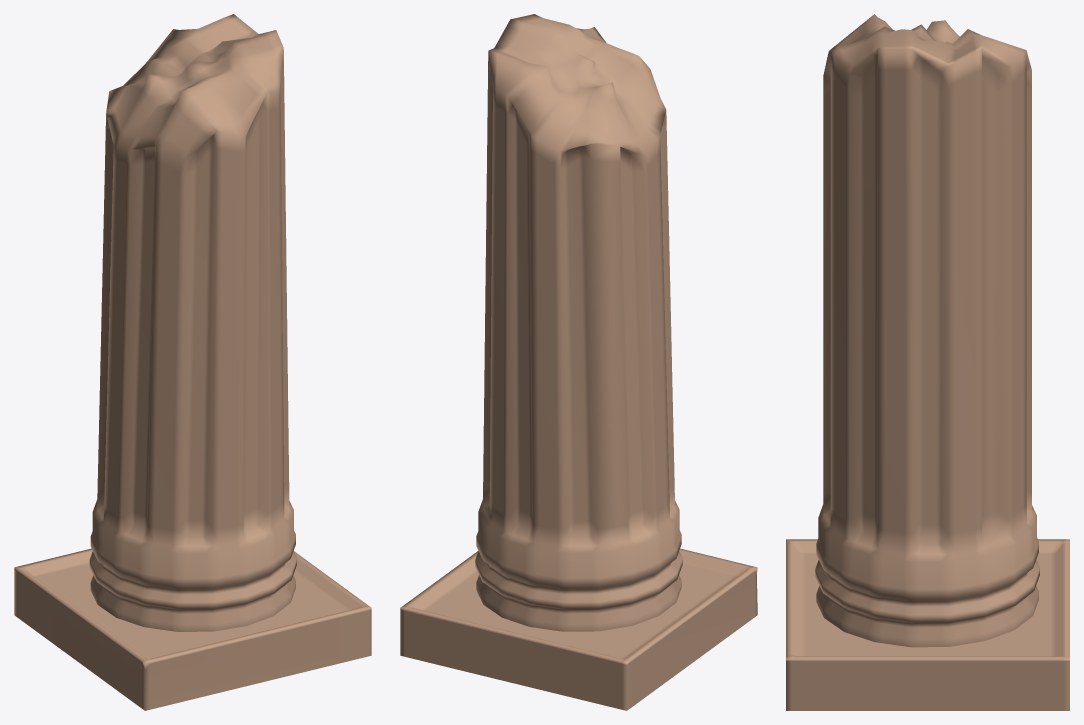
The model's file is Pillar_Ruin_1_LP.fbx.
3 renders of one model, left to right at view 1: azimuth 30°, elevation 25°; view 2: azimuth 150°, elevation 25°; view 3: azimuth 270°, elevation 25°, orthographic. The views are drawn at different scales.
Parts seen in each view (by area): view 1: Ruin_Pillar_1; view 2: Ruin_Pillar_1; view 3: Ruin_Pillar_1.
Boxes of the visible parts, x1,y1,x2,y2 form: Ruin_Pillar_1: (14, 14, 371, 710); Ruin_Pillar_1: (400, 14, 757, 710); Ruin_Pillar_1: (786, 14, 1069, 710).
Bounding box in the file's own units: 102 × 255 × 102.
